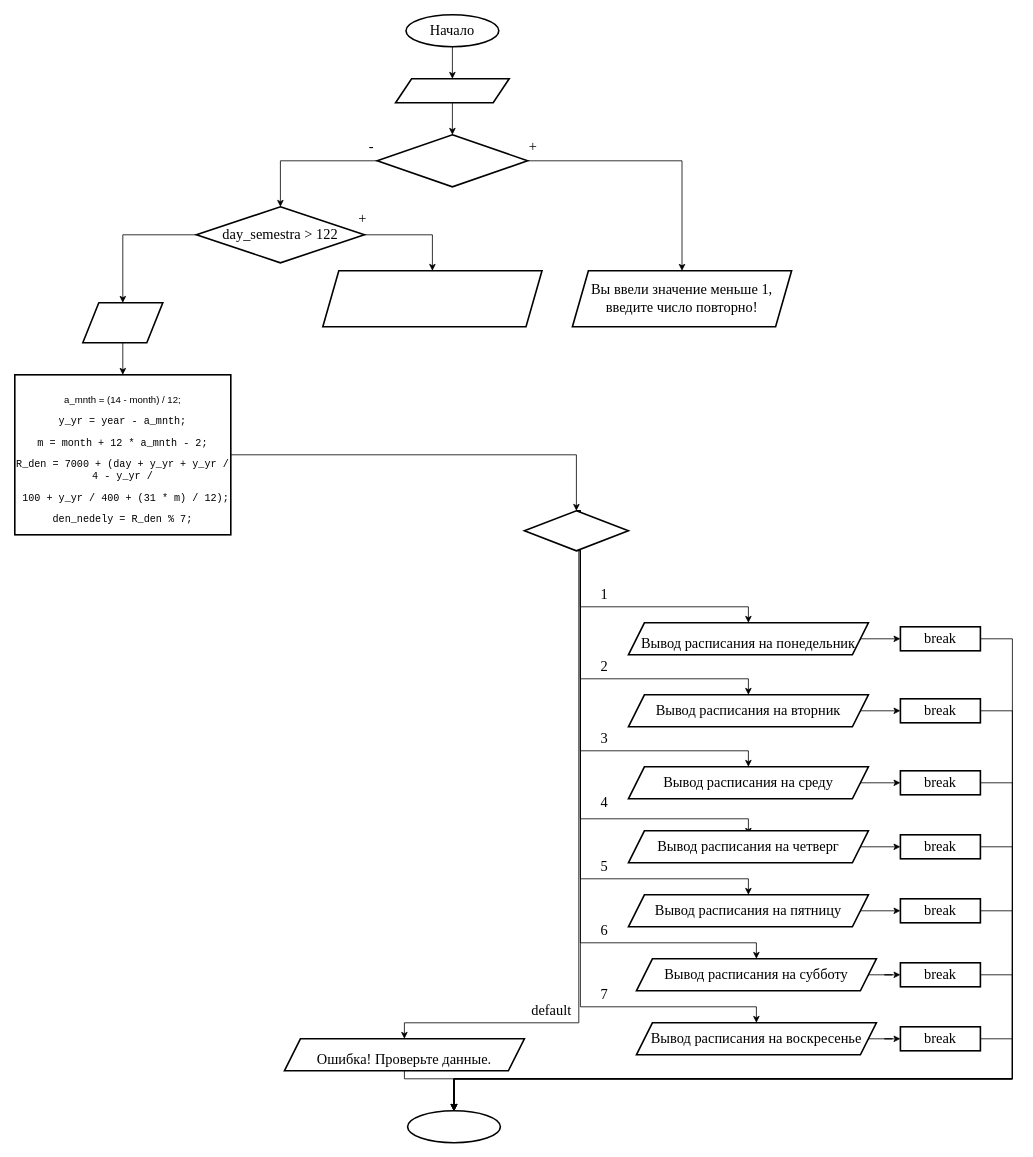
Image size: 1033x1157. Some labels were removed from this diagram. The shapes that lost their labels are listed below. From the top down, each one's box as (x1, y1, x2, y2) in pixels, then its label:
(394, 78, 510, 103): day_semestra
(376, 134, 528, 187): day_semestra < 1
(322, 270, 542, 327): Вы ввели значение больше допустимого значения дней, проверьте данные!
(82, 302, 163, 343): day; year; month;
(523, 510, 629, 551): den_nedely
(406, 1110, 501, 1143): Конец
